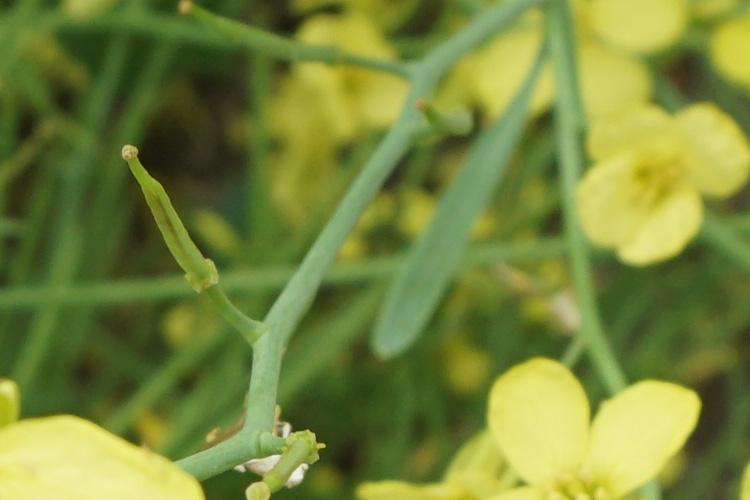pod: (96, 133, 228, 322)
yellow: (436, 352, 680, 500), (595, 98, 746, 250)
